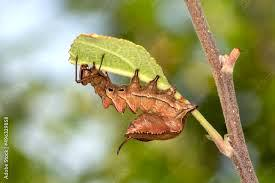Lobster Moth: (70, 56, 201, 163)
